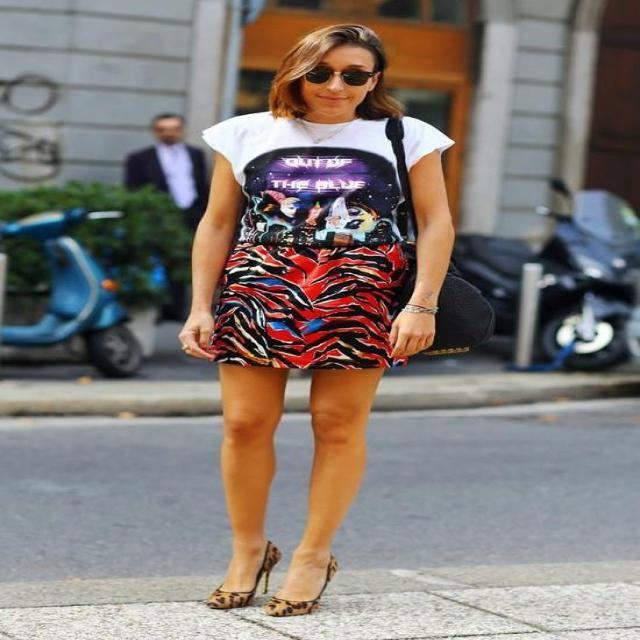Tshirt: (197, 107, 457, 247)
skirt: (205, 240, 407, 368)
